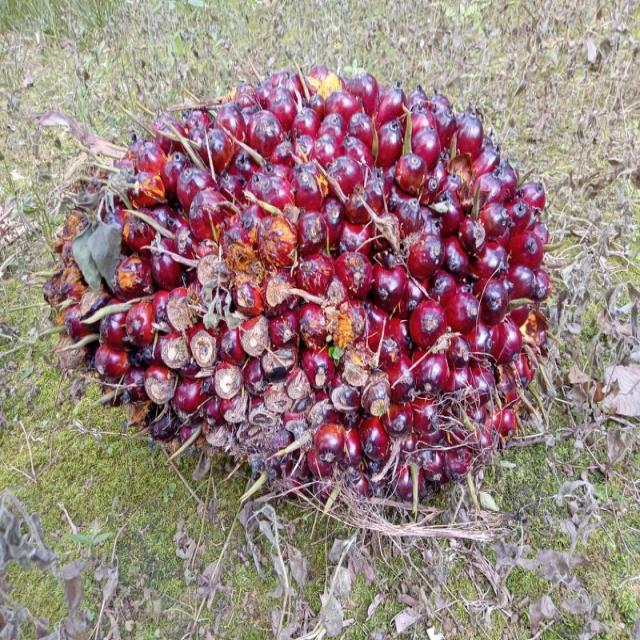fraksi 1: (36, 49, 586, 542)
